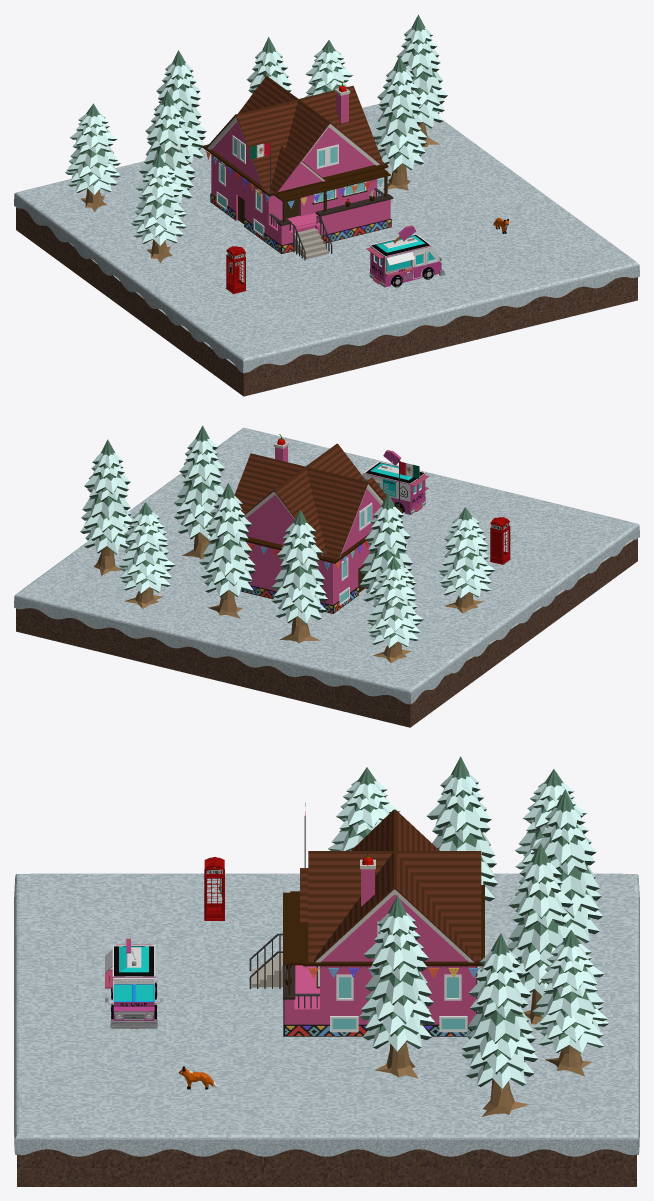
The picture shows the model from 3 angles, top to bottom: view 1: azimuth 30°, elevation 25°; view 2: azimuth 150°, elevation 25°; view 3: azimuth 270°, elevation 25°; orthographic projection. The views are drawn at different scales.
Visible parts, largest first — view 1: Cube.003, Cube.1005, VEHICLES_ICE_CREAM_TRUCK, OBJRANDOM_PHONEBOOTH; view 2: Cube.003, Cube.1005, VEHICLES_ICE_CREAM_TRUCK, OBJRANDOM_PHONEBOOTH; view 3: Cube.003, Cube.1005, VEHICLES_ICE_CREAM_TRUCK, OBJRANDOM_PHONEBOOTH.
Boxes of the visible parts, x1,y1,x2,y2 form: Cube.003: (14, 14, 639, 396); Cube.1005: (202, 76, 393, 260); VEHICLES_ICE_CREAM_TRUCK: (366, 225, 445, 287); OBJRANDOM_PHONEBOOTH: (225, 246, 246, 293); Cube.003: (14, 425, 639, 727); Cube.1005: (234, 434, 419, 613); VEHICLES_ICE_CREAM_TRUCK: (362, 450, 429, 514); OBJRANDOM_PHONEBOOTH: (490, 517, 510, 564); Cube.003: (14, 756, 639, 1186); Cube.1005: (249, 802, 484, 1036); VEHICLES_ICE_CREAM_TRUCK: (105, 938, 162, 1028); OBJRANDOM_PHONEBOOTH: (204, 857, 224, 920).
Bounding box in the file's own units: 4040 × 1665 × 4040.
80 materials, 5 textured.
